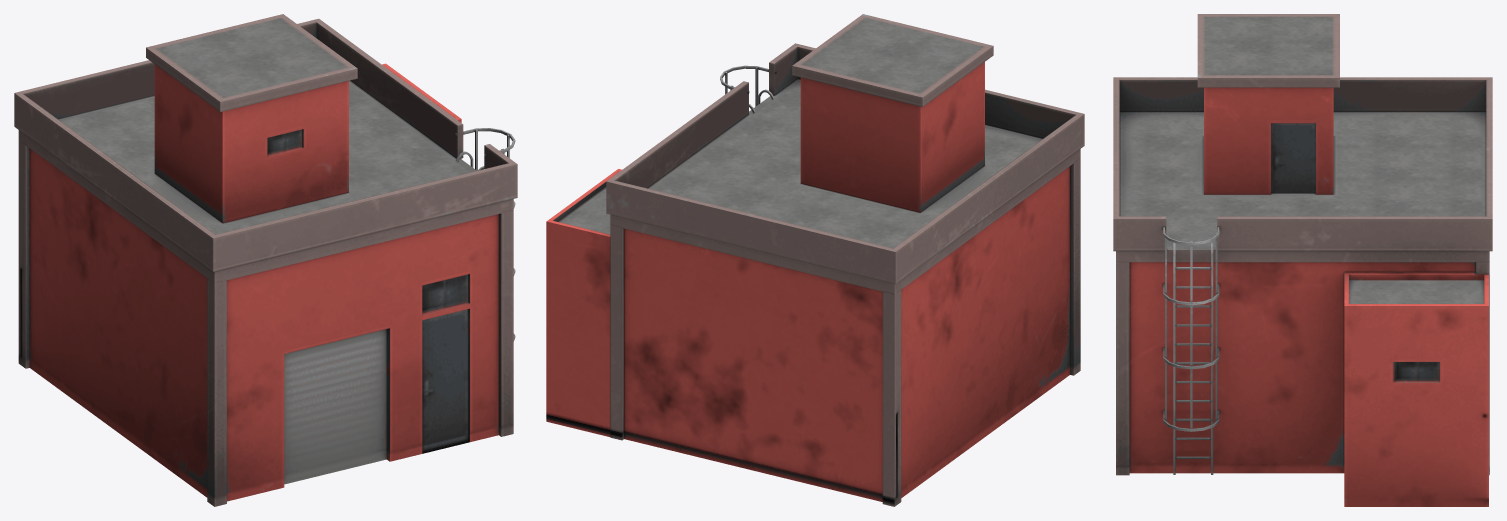
Rendered from upgrade_building.glb.
3 views of the same model, side by side, from view 1: azimuth 30°, elevation 25°; view 2: azimuth 150°, elevation 25°; view 3: azimuth 270°, elevation 25° (orthographic). The views are drawn at different scales.
Parts seen in each view (by area): view 1: upadate building, update building gate, update building stair; view 2: upadate building; view 3: upadate building, update building stair, update building gate.
Boxes of the visible parts, bbox=[...] form: upadate building: bbox=[14, 14, 517, 506]; update building gate: bbox=[267, 129, 467, 484]; update building stair: bbox=[455, 128, 515, 341]; upadate building: bbox=[546, 14, 1084, 506]; upadate building: bbox=[1113, 14, 1492, 506]; update building stair: bbox=[1163, 227, 1219, 474]; update building gate: bbox=[1271, 123, 1439, 381].
Bounding box in the file's own units: 11.99 × 11.21 × 11.18.
1 material, 1 textured.
